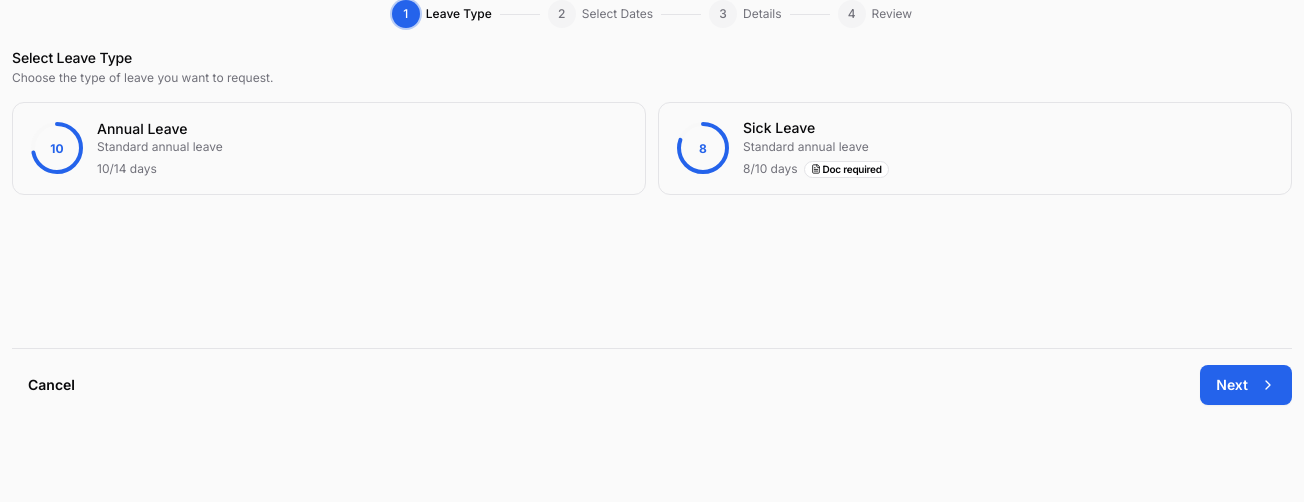
Scenario: LeaveRequestWizard › Step 2: Date Selection › shows days count summary when dates are set
Click the text "Annual Leave".
click(142, 128)  # box top-left (97, 120), bottom-right (187, 136)
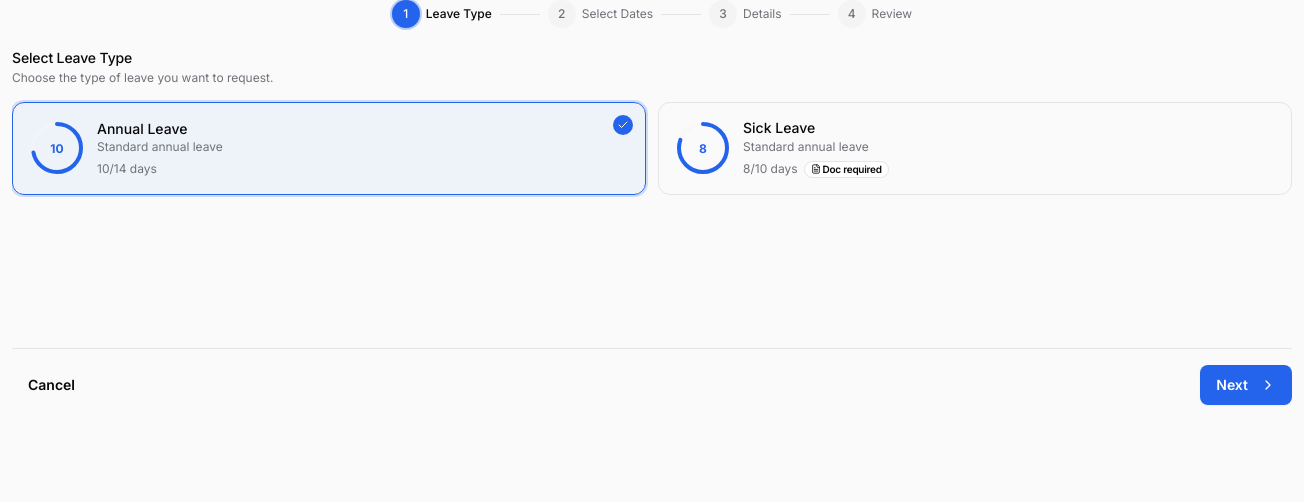
Click the button "Next".
click(1246, 385)  # box top-left (1200, 365), bottom-right (1292, 405)
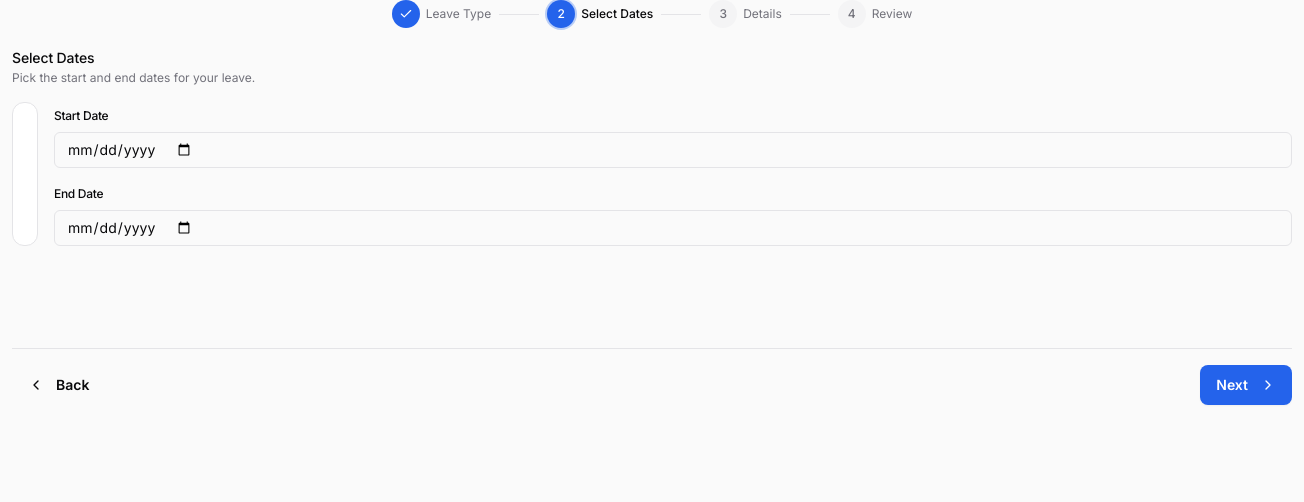
Type "2026-06-01" into the date field below "Start Date".
click(673, 150); type("2026-06-01")  # box top-left (54, 132), bottom-right (1292, 168)
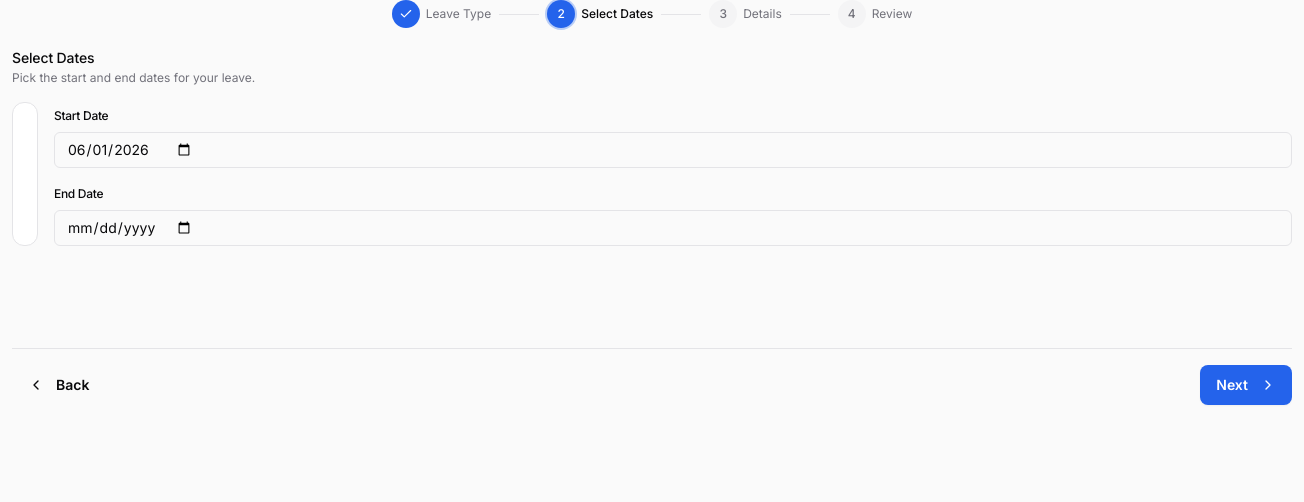
Type "2026-06-05" into the 2nd date field.
click(673, 228); type("2026-06-05")  # box top-left (54, 210), bottom-right (1292, 246)
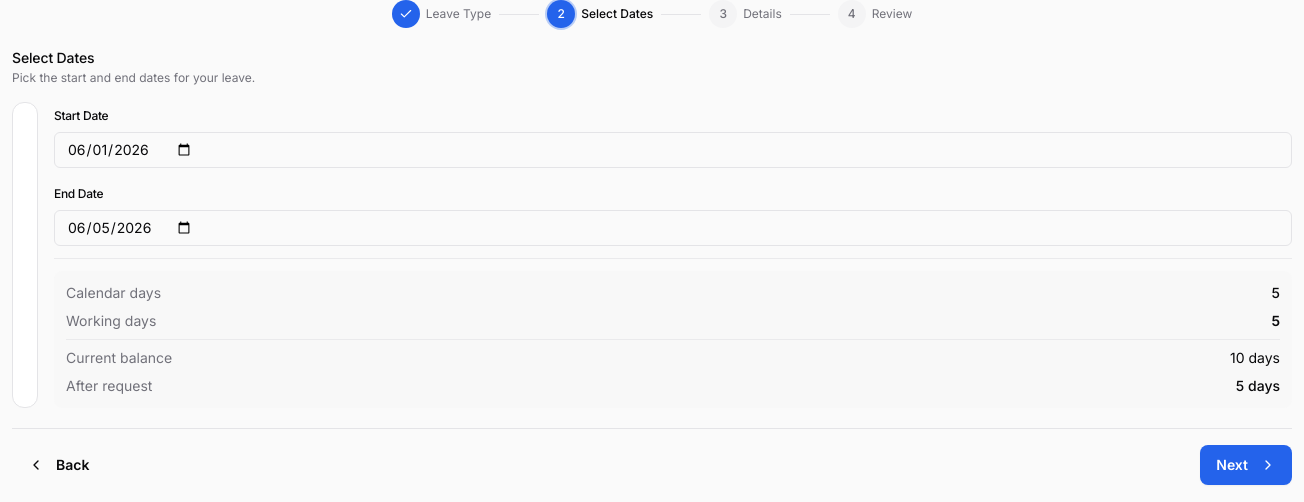
expect the text "Calendar days" is shown: met, box top-left (66, 283), bottom-right (161, 303)
expect the text "Working days" is shown: met, box top-left (66, 311), bottom-right (156, 331)
